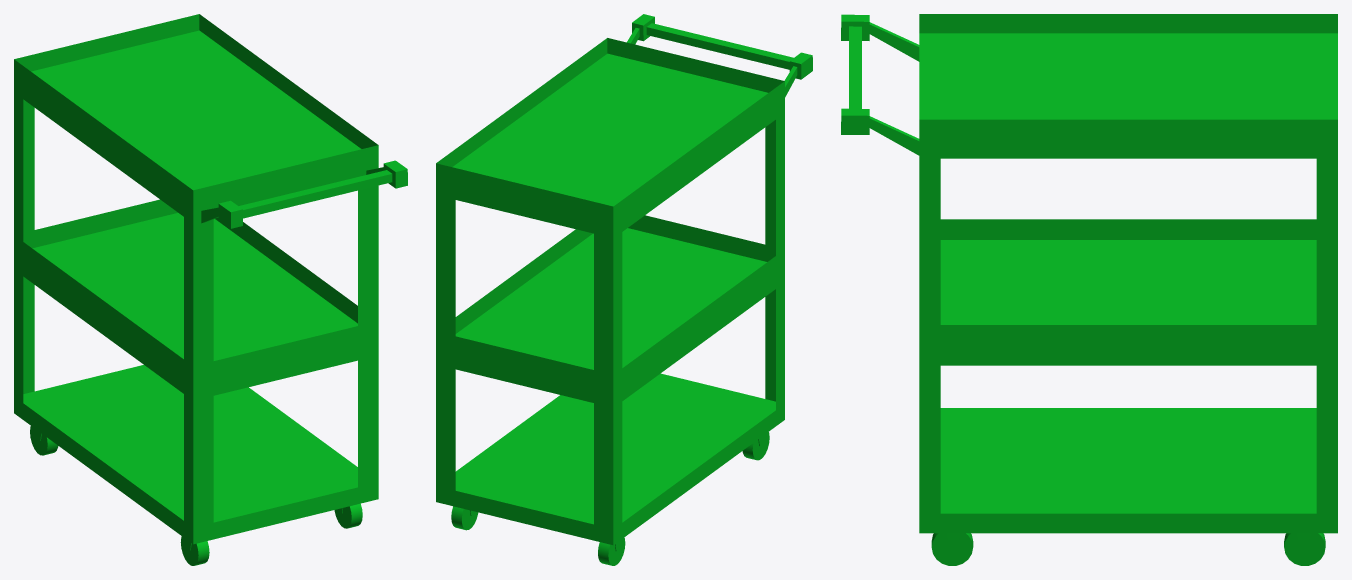
Rendered from CartType3.FBX.
3 renders of one model, left to right at view 1: azimuth 30°, elevation 25°; view 2: azimuth 150°, elevation 25°; view 3: azimuth 270°, elevation 25°, orthographic. The views are drawn at different scales.
Parts seen in each view (by area): view 1: CartX3; view 2: CartX3; view 3: CartX3.
Boxes of the visible parts, x1,y1,x2,y2 form: CartX3: (14, 14, 407, 565); CartX3: (436, 14, 812, 565); CartX3: (841, 14, 1337, 565).
Size of the model in its own units: 36.35 by 72.82 by 72.22.
